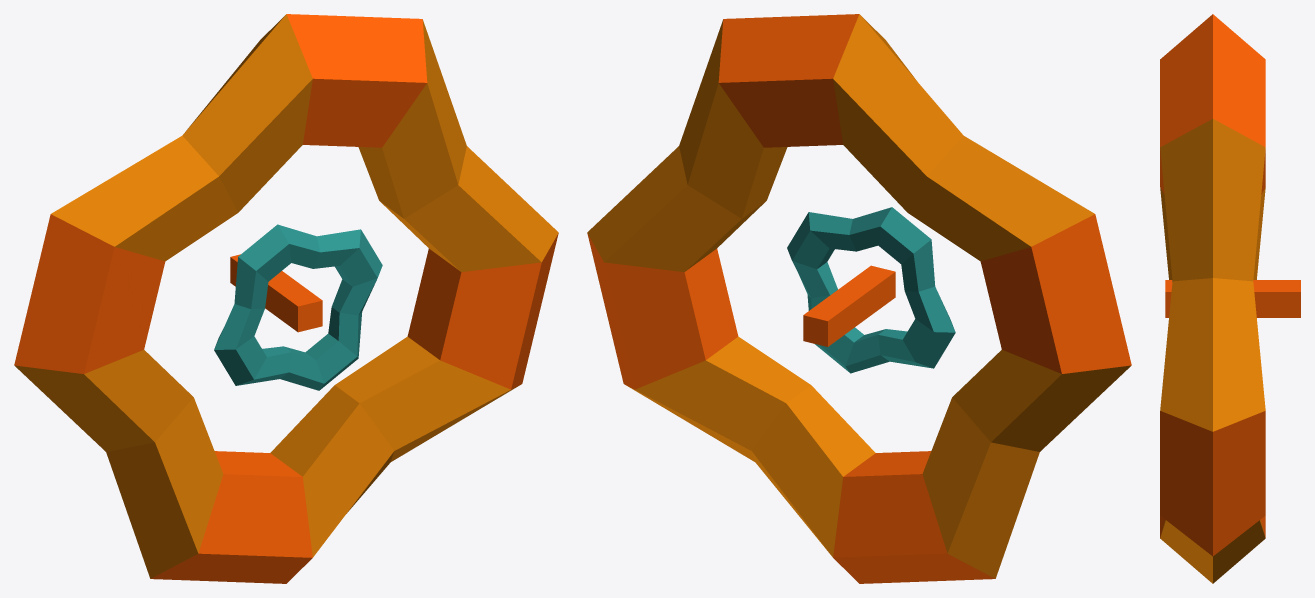
Rendered from circulo de equilibrio2.fbx.
3 views of the same model, side by side, from view 1: azimuth 30°, elevation 25°; view 2: azimuth 150°, elevation 25°; view 3: azimuth 270°, elevation 25° (orthographic).
Visible parts, largest first — view 1: toro base, toro base.001, Cube; view 2: toro base, toro base.001, Cube; view 3: toro base, Cube.
Boxes of the visible parts, x1,y1,x2,y2 form: toro base: (14, 14, 558, 583); toro base.001: (214, 224, 382, 390); Cube: (230, 254, 322, 332); toro base: (587, 14, 1131, 583); toro base.001: (787, 207, 955, 373); Cube: (803, 265, 895, 346); toro base: (1160, 14, 1265, 583); Cube: (1165, 280, 1300, 317).
Bounding box in the file's own units: 73.4 × 73.4 × 16.42.
